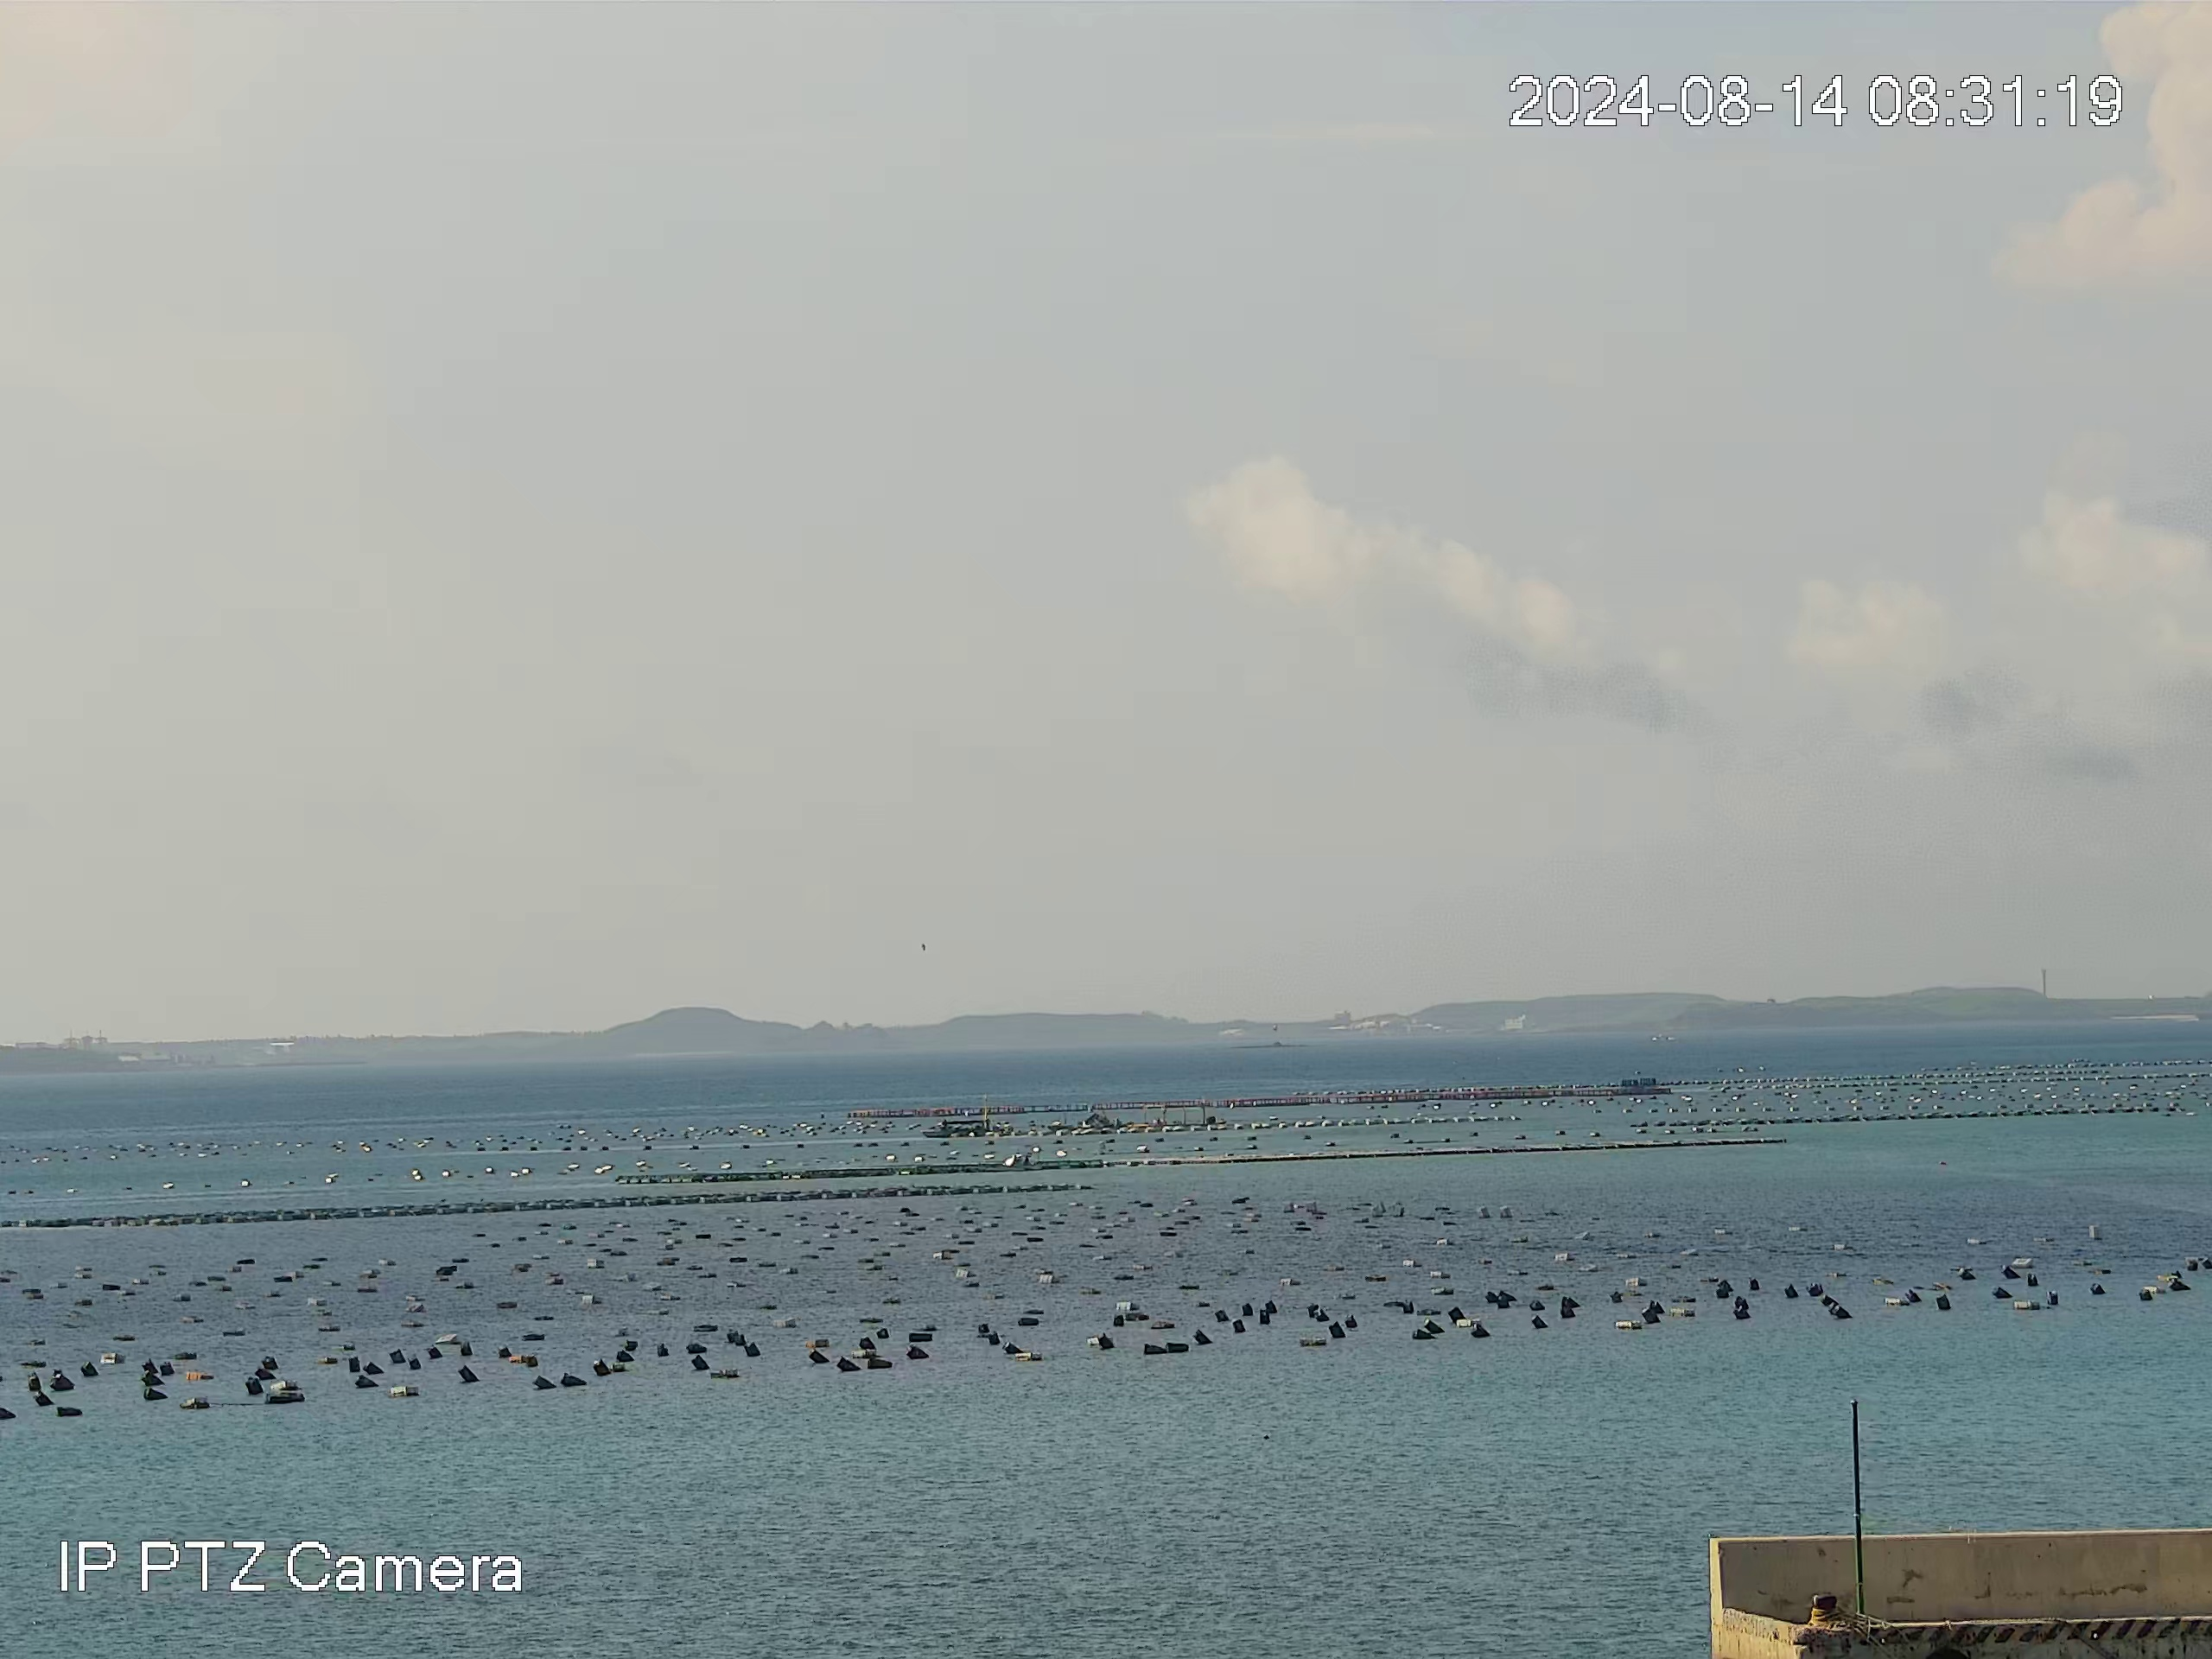boat: (920, 1115, 993, 1141)
